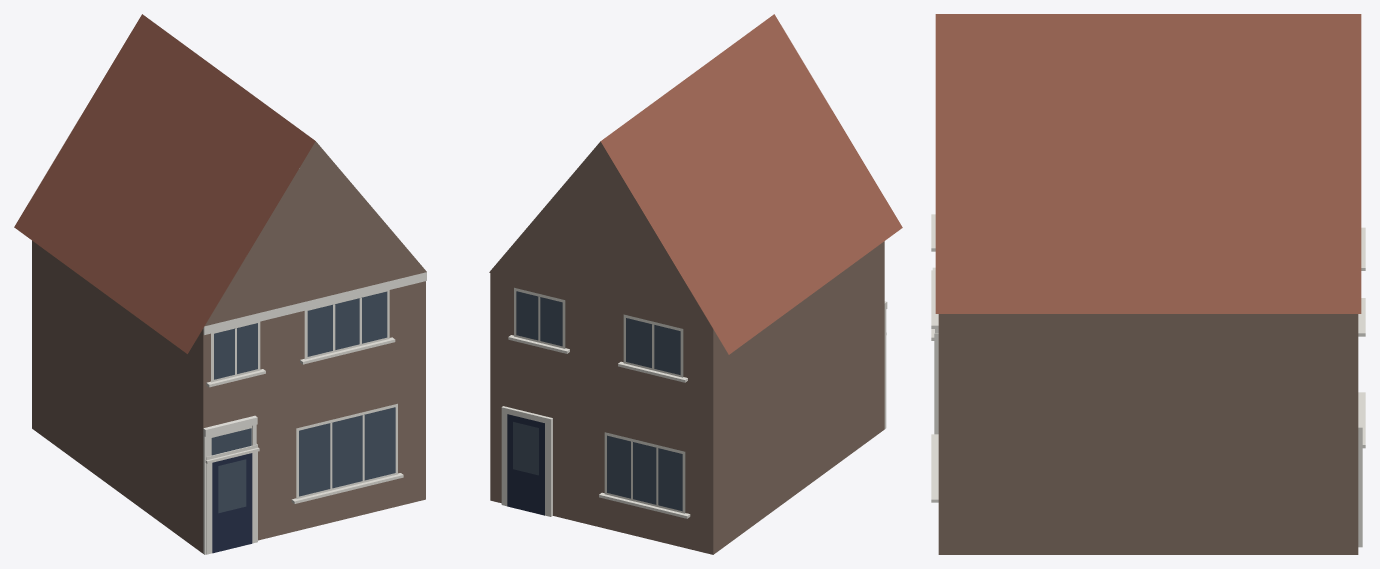
Rendered from nn-row__wide__2__gable__short__solid.glb.
3 renders of one model, left to right at view 1: azimuth 30°, elevation 25°; view 2: azimuth 150°, elevation 25°; view 3: azimuth 270°, elevation 25°, orthographic. The views are drawn at different scales.
Parts seen in each view (by area): view 1: nn-row__wide__2__gable__short__solid; view 2: nn-row__wide__2__gable__short__solid; view 3: nn-row__wide__2__gable__short__solid.
Part boxes in pixels (bbox=[...]): nn-row__wide__2__gable__short__solid: bbox=[14, 14, 426, 554]; nn-row__wide__2__gable__short__solid: bbox=[489, 14, 902, 554]; nn-row__wide__2__gable__short__solid: bbox=[931, 14, 1365, 554].
Size of the model in its own units: 6.11 by 8.8 by 7.3.
